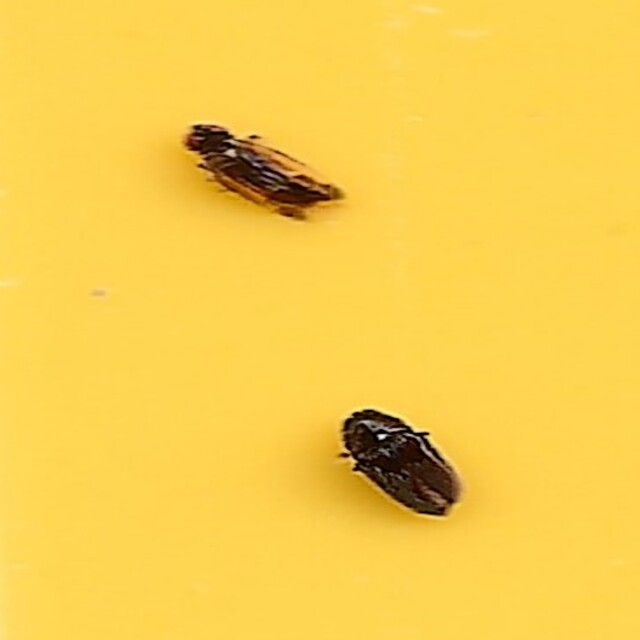Coleoptera: (333, 399, 466, 519)
Hemiptera: (174, 121, 352, 229)
